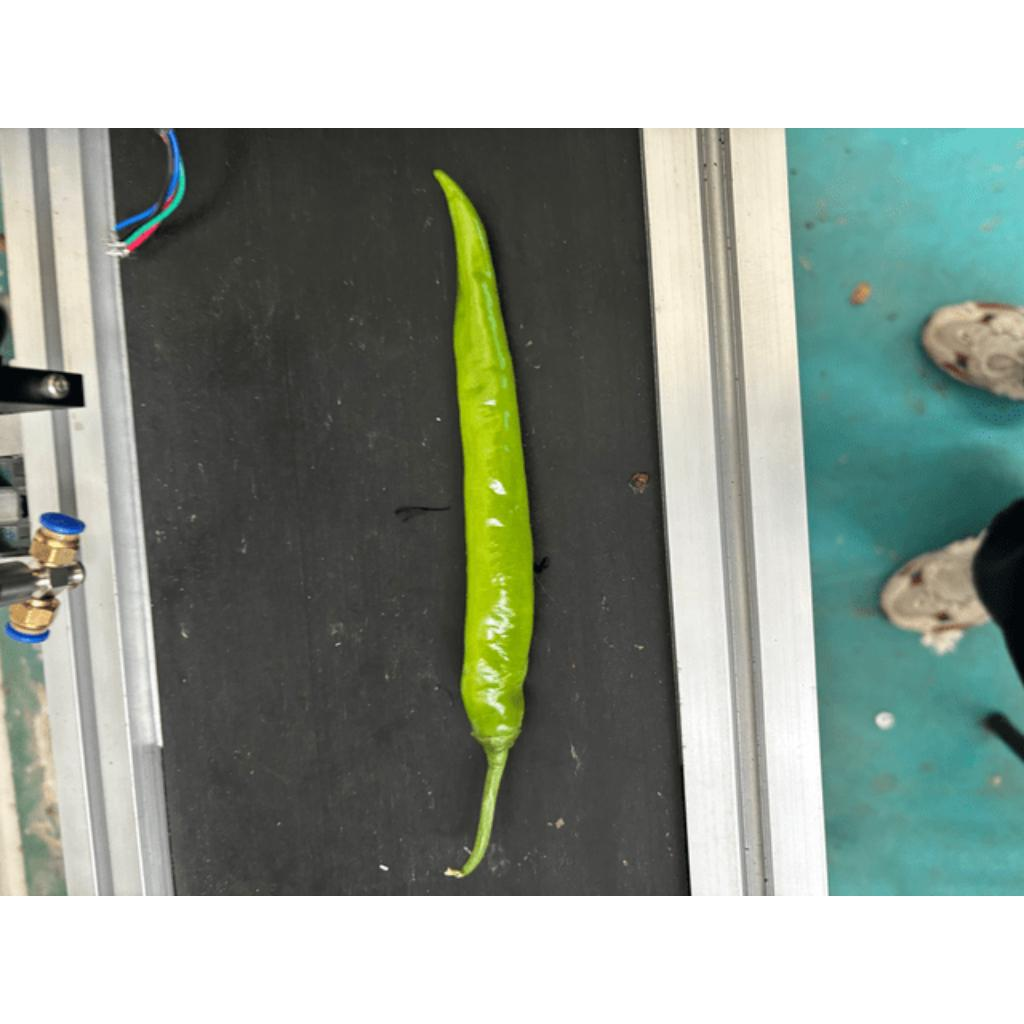chili: (432, 165, 537, 761)
